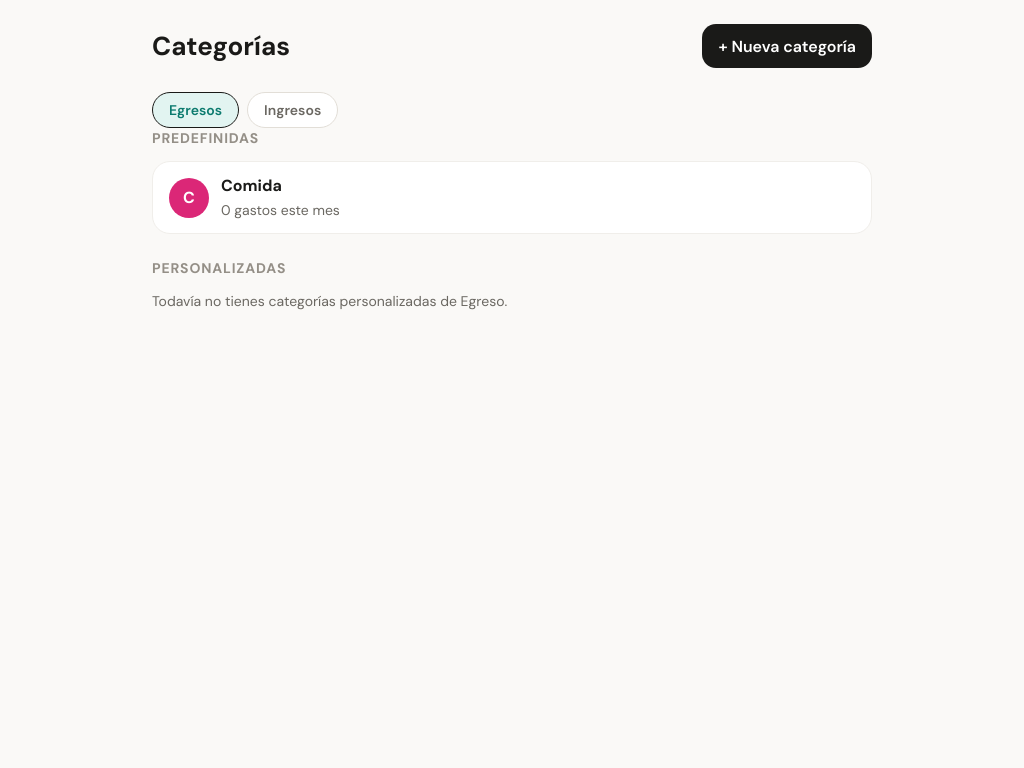
Test: CategoriasView › HU-4.2 — crear categoría › camino feliz: pulsar "+ Nueva categoría" abre el modal de alta (solo pide nombre)
Click the button with class "boton-nuevo" at coordinates (787, 46), box [702,24,872,68]
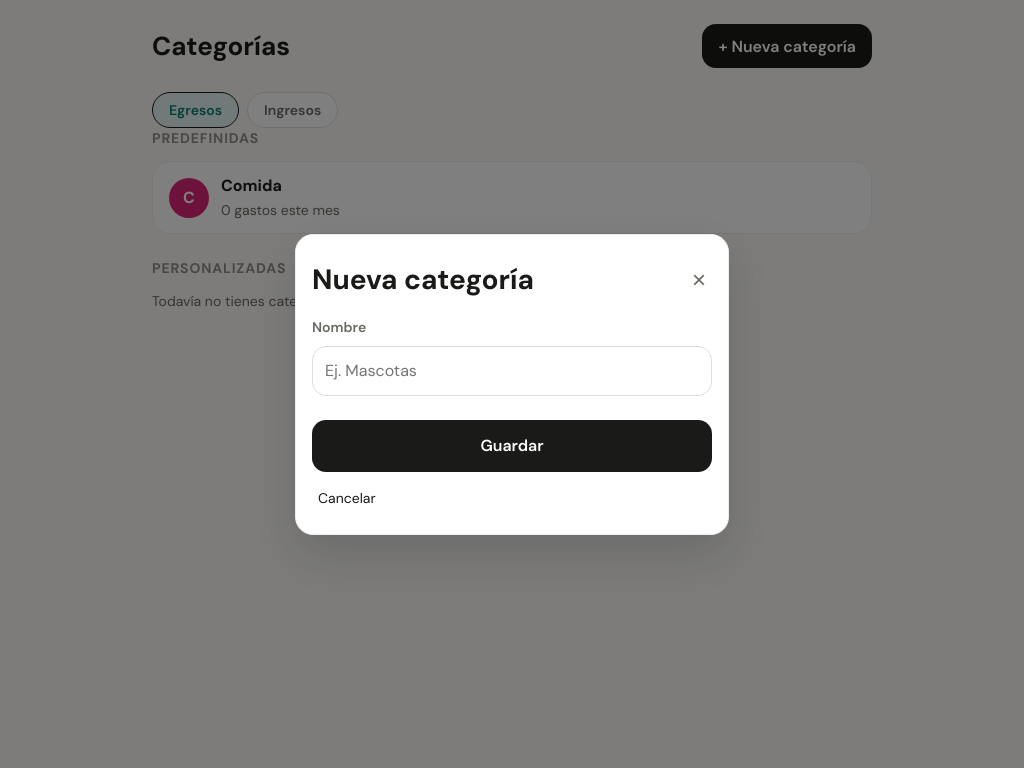
Expected: the element showing "Nueva categoría × Nombre Guardar Cancelar" is shown
Expected: the field with id "nombre" is shown, [312,346,712,396]
